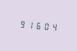four: (50, 21, 57, 32)
nine: (18, 18, 25, 29)
one: (26, 18, 33, 30)
six: (34, 19, 41, 31)
zero: (42, 20, 49, 31)
